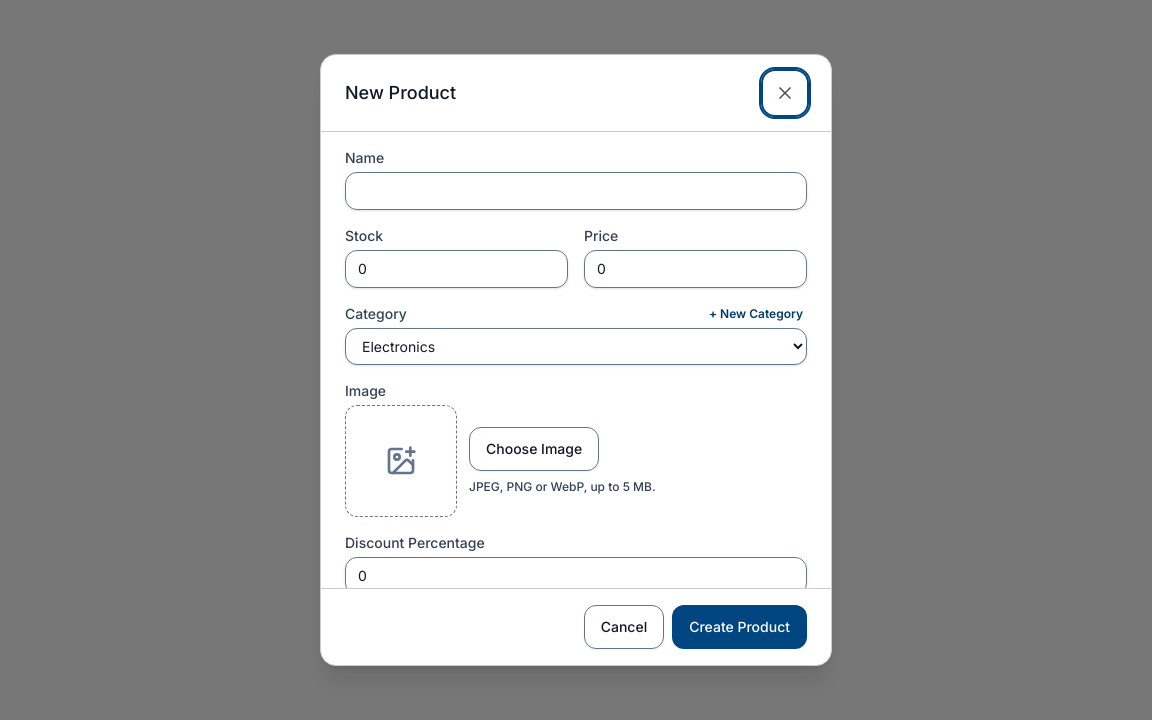
Test: ProductFormModal › renders numeric inputs without keeping 0 stuck when typing digits
Check: the field labelled "Price" holds "0", box [584,250,807,288]
# Typing '25' into stock should replace '0', not become '025'
Replace the text in the field labelled "Stock" with "025" at (456, 269), box [345,250,568,288]
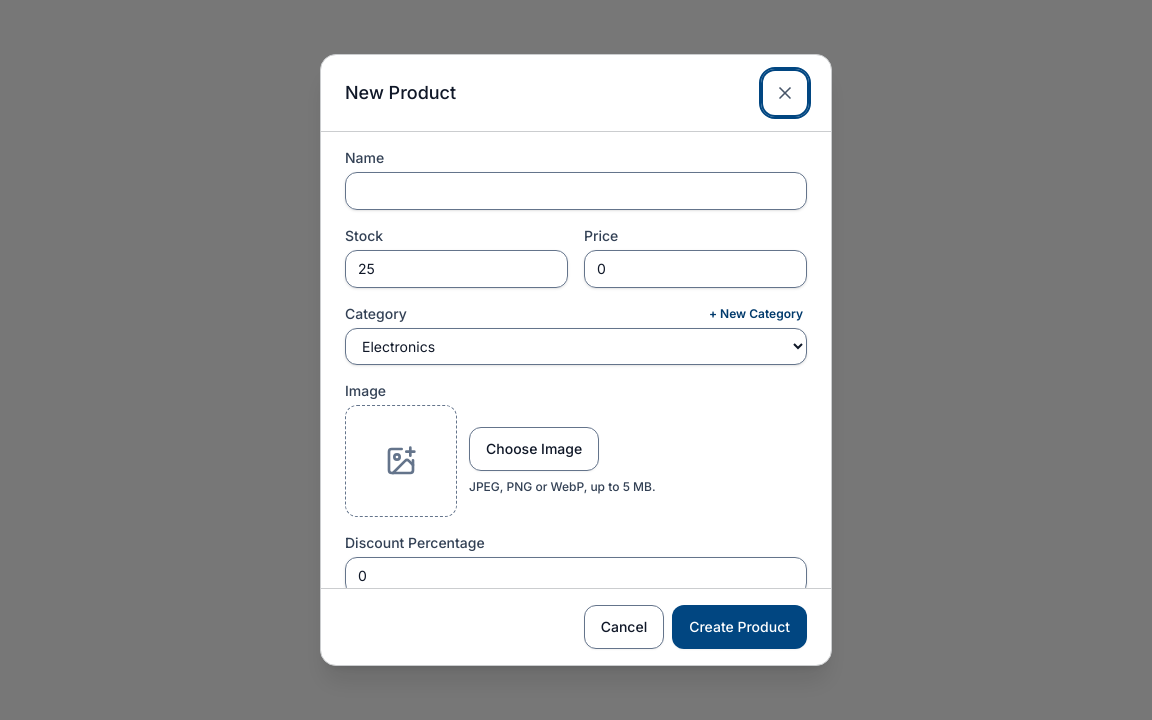
Check: the field labelled "Stock" holds "25", box [345,250,568,288]
# Typing '99.99' into price
Replace the text in the field labelled "Price" with "099.99" at (696, 269), box [584,250,807,288]
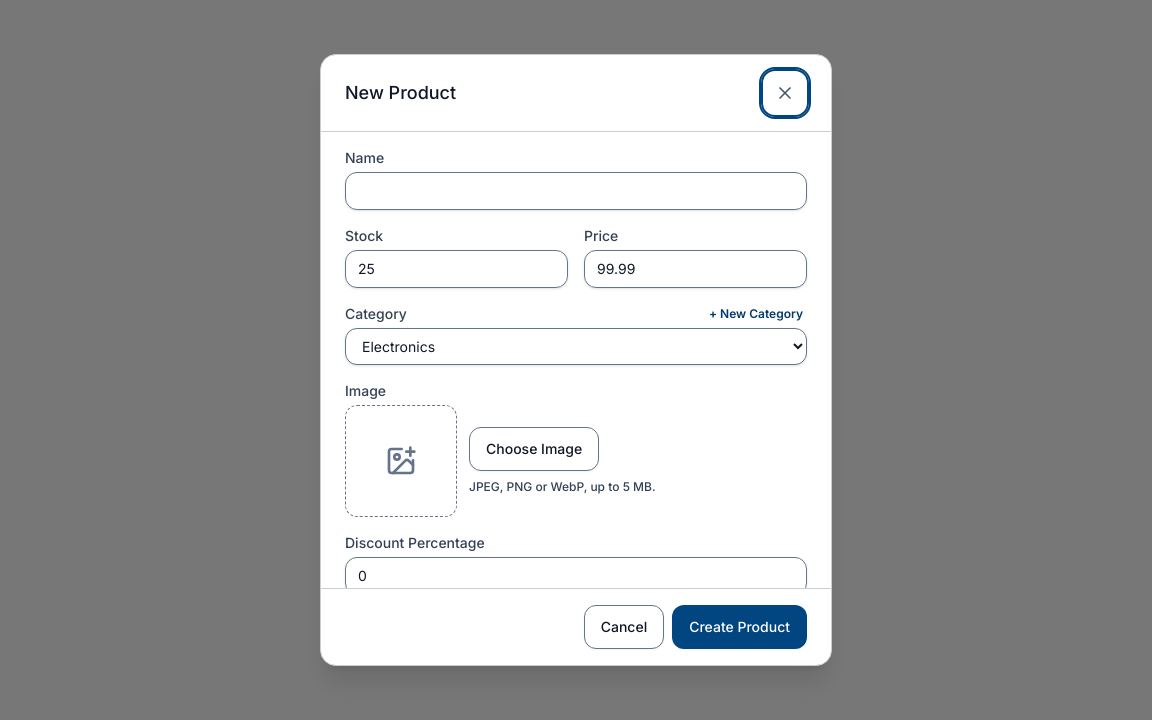
Check: the field labelled "Price" holds "99.99", box [584,250,807,288]
